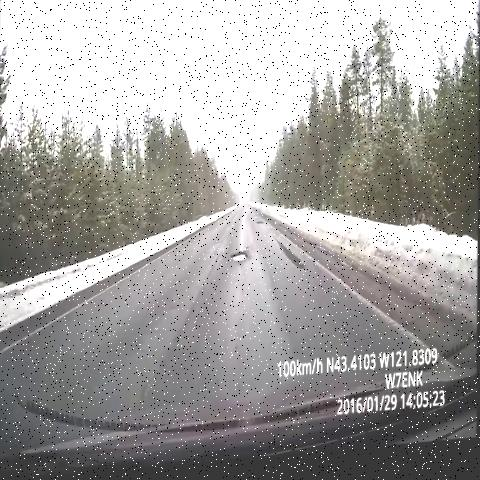pothole: (276, 247, 310, 288), (228, 247, 251, 280), (249, 219, 269, 239)
